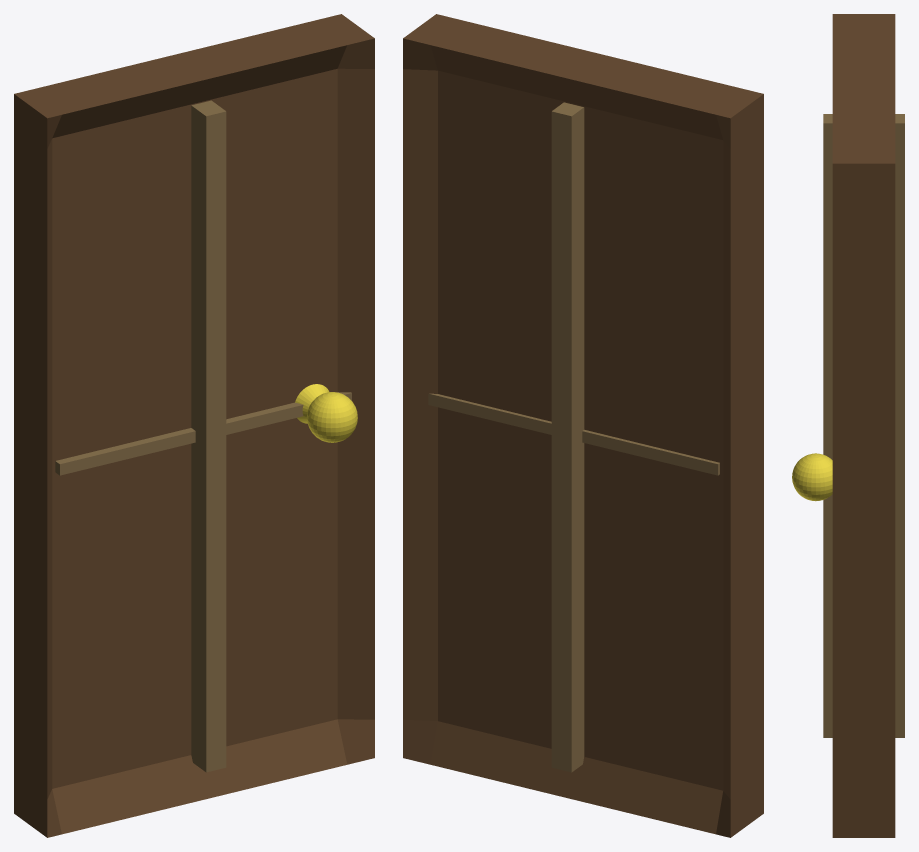
File: Door.fbx
3 renders of one model, left to right at view 1: azimuth 30°, elevation 25°; view 2: azimuth 150°, elevation 25°; view 3: azimuth 270°, elevation 25°, orthographic. The views are drawn at different scales.
Parts seen in each view (by area): view 1: Cube, Cube.001, Cube.002, Sphere; view 2: Cube, Cube.001, Cube.002; view 3: Cube, Cube.001, Sphere.
Boxes of the visible parts, box(x1,y1,x2,y2) form: Cube: box(14, 14, 374, 837); Cube.001: box(191, 100, 226, 772); Cube.002: box(55, 392, 351, 475); Sphere: box(307, 392, 357, 442); Cube: box(403, 14, 763, 837); Cube.001: box(551, 102, 584, 772); Cube.002: box(428, 393, 719, 475); Cube: box(832, 14, 895, 837); Cube.001: box(823, 114, 904, 737); Sphere: box(792, 453, 832, 501).
Size of the model in its own units: 295 by 620 by 94.1.
